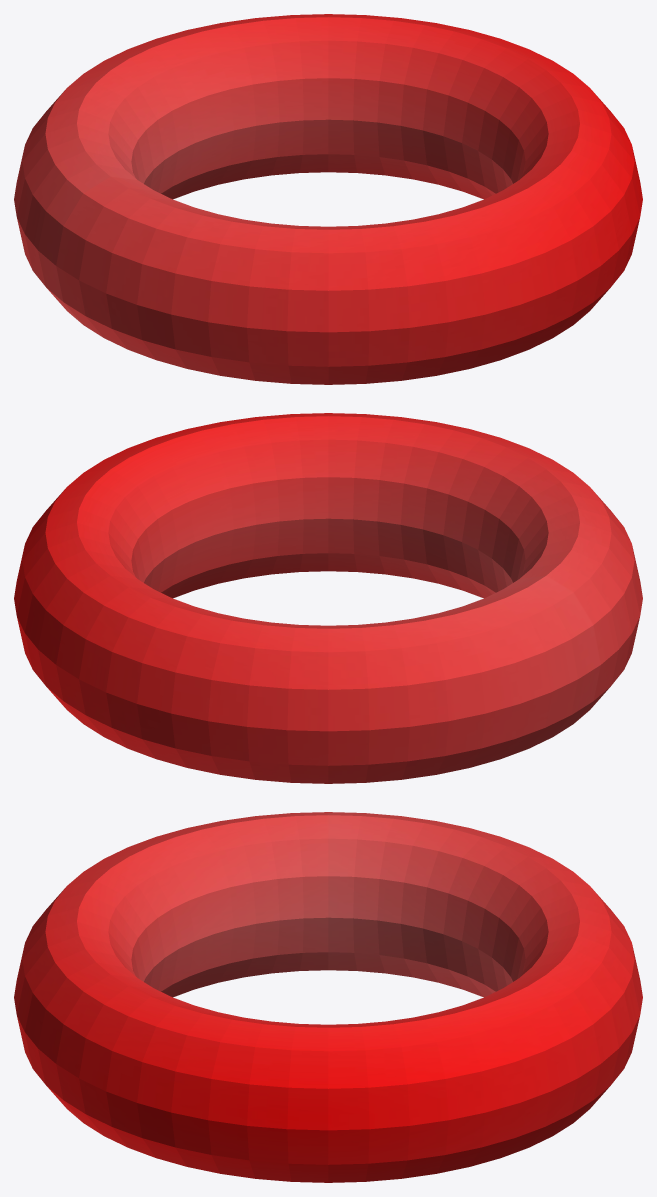
The model's file is TorG.obj.
3 views of the same model, one above another, from view 1: azimuth 30°, elevation 25°; view 2: azimuth 150°, elevation 25°; view 3: azimuth 270°, elevation 25° (orthographic).
Visible parts, largest first — view 1: Torus; view 2: Torus; view 3: Torus.
Boxes of the visible parts, box(x1,y1,x2,y2) form: Torus: box(14, 14, 642, 384); Torus: box(14, 413, 642, 783); Torus: box(14, 812, 642, 1182).
Size of the model in its own units: 6 by 1.6 by 6.
1 material, 1 textured.
